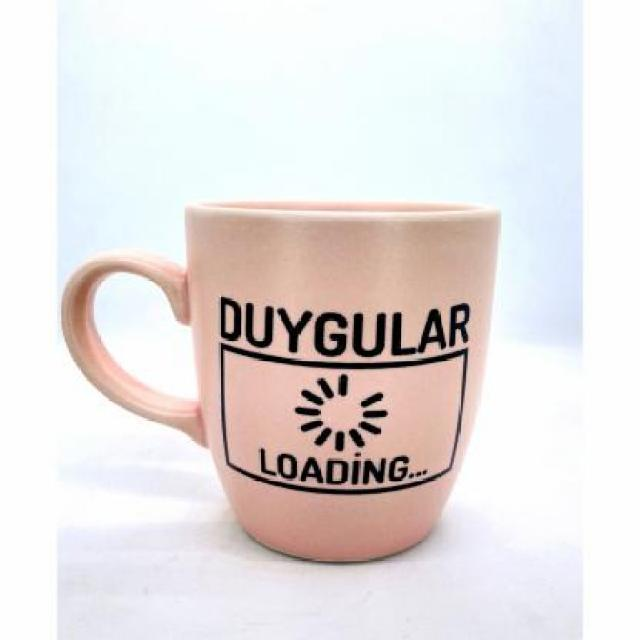taza: (59, 202, 506, 568)
